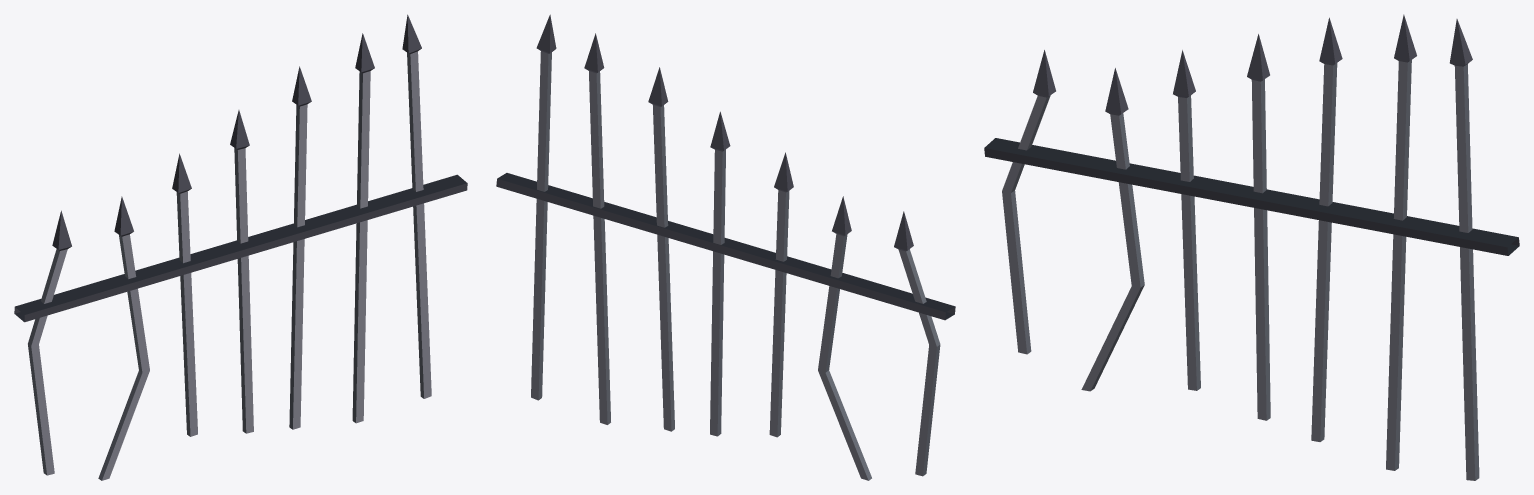
File: HWN20_IronfFence_02.glb
3 views of the same model, side by side, from view 1: azimuth 30°, elevation 25°; view 2: azimuth 150°, elevation 25°; view 3: azimuth 330°, elevation 25° (orthographic). The views are drawn at different scales.
Visible parts, largest first — view 1: HWN20_IronfFence_02; view 2: HWN20_IronfFence_02; view 3: HWN20_IronfFence_02.
Boxes of the visible parts, x1,y1,x2,y2 form: HWN20_IronfFence_02: (14, 14, 467, 480); HWN20_IronfFence_02: (496, 14, 955, 480); HWN20_IronfFence_02: (984, 14, 1519, 480).
Size of what is drawn, in the model's own units: 4.01 by 3.39 by 0.1817.
1 material, 1 textured.
